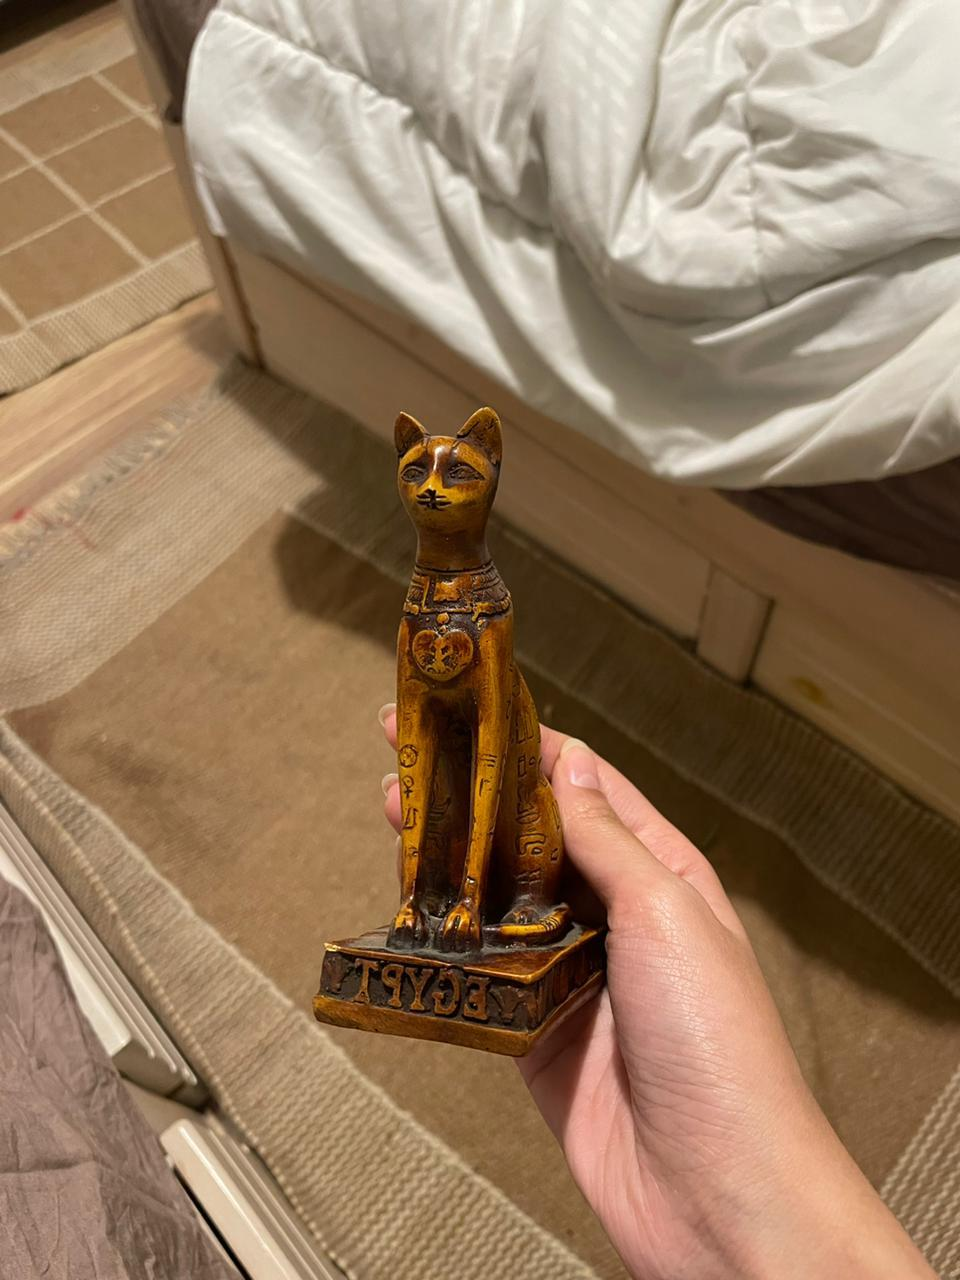Past: (309, 402, 599, 1050)
